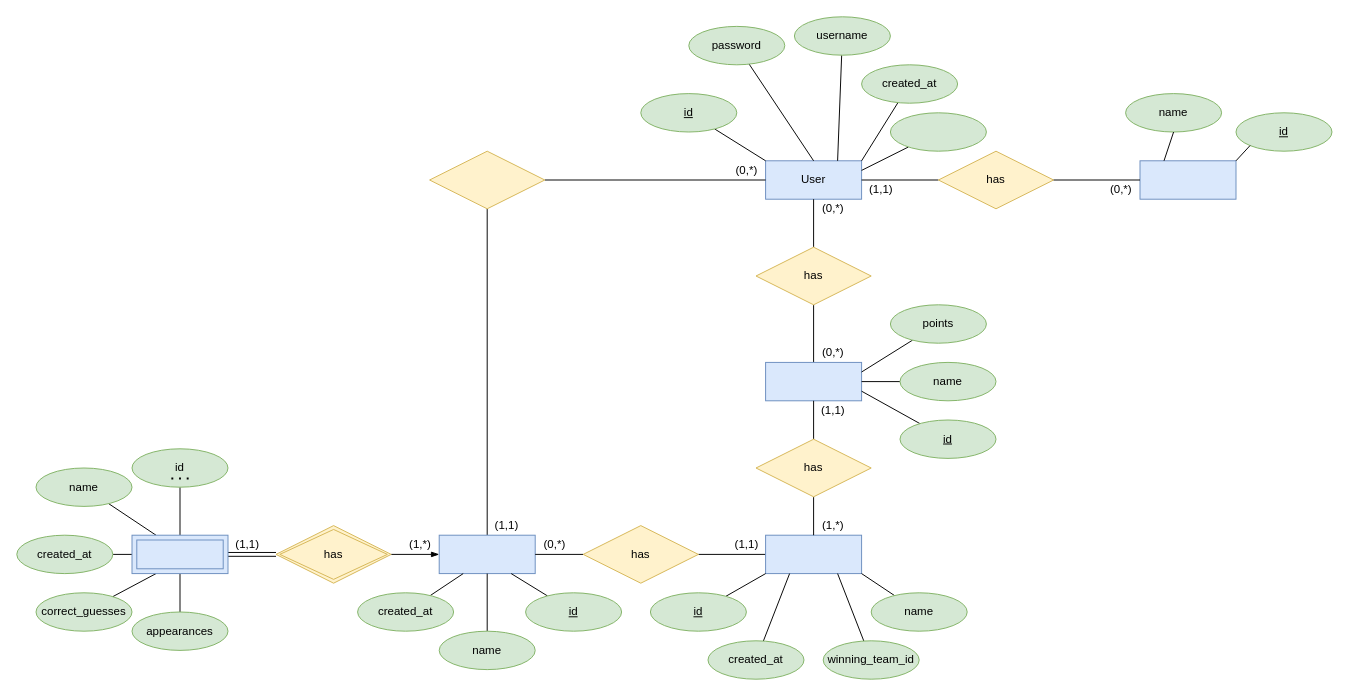
The diagram is 1349 pixels wide and 696 high, and some of its shapes have lost their labels. The centre of each missing label's shape, as x and y in pixels:
email: the point at 937,131
Game: the point at 813,554
manages: the point at 487,179
Role: the point at 1187,179
Team: the point at 813,381
Term: the point at 179,554
Topic: the point at 486,554
